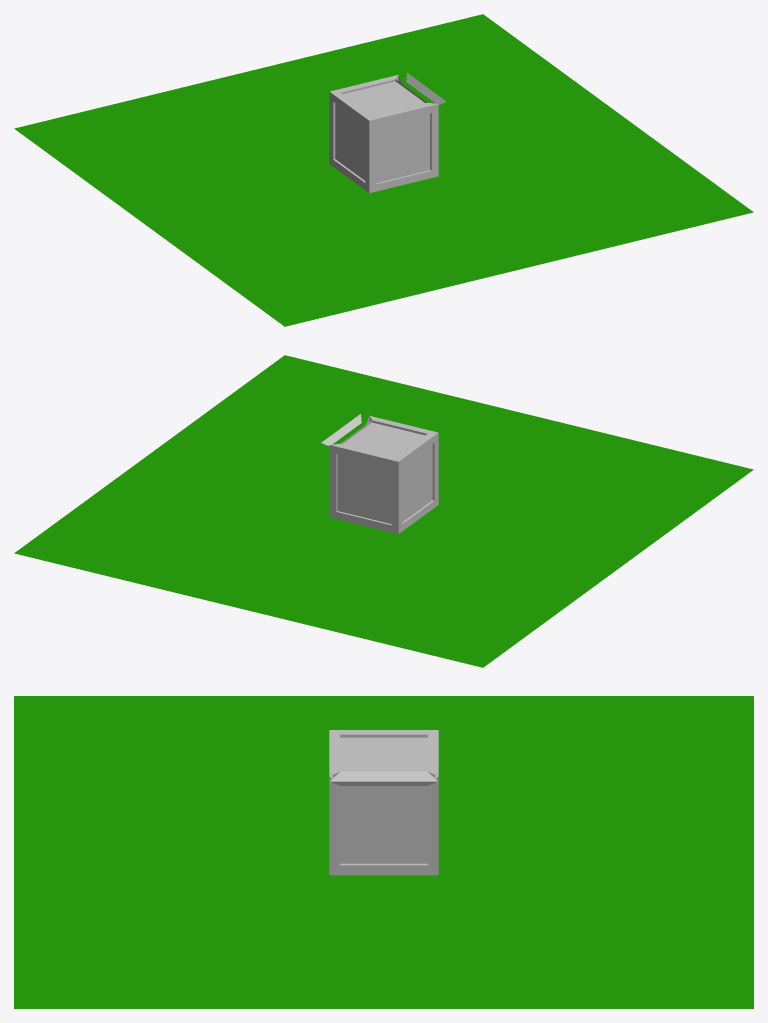
Rendered from caixa_000021.obj.
The picture shows the model from 3 angles, top to bottom: view 1: azimuth 30°, elevation 25°; view 2: azimuth 150°, elevation 25°; view 3: azimuth 270°, elevation 25°; orthographic projection. The views are drawn at different scales.
Visible parts, largest first — view 1: Plane, Cube_Cube.003; view 2: Plane, Cube_Cube.003; view 3: Plane, Cube_Cube.003, Cube.002_Cube.001, Cube.001_Cube.000.
Boxes of the visible parts, x1,y1,x2,y2 form: Plane: (14,14,753,326); Cube_Cube.003: (329,74,438,193); Plane: (14,355,753,667); Cube_Cube.003: (329,415,438,534); Plane: (14,696,753,1008); Cube_Cube.003: (329,730,438,875); Cube.002_Cube.001: (340,786,427,863); Cube.001_Cube.000: (329,771,438,785).
Bounding box in the file's own units: 13.55 × 2.14 × 13.55.
